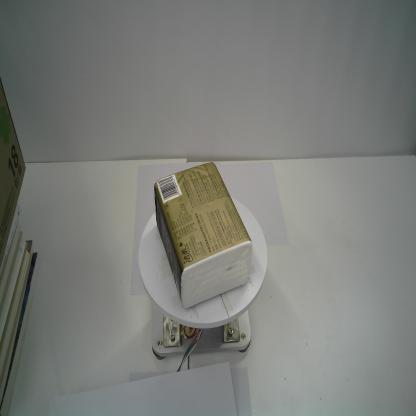Tissue: (153, 160, 251, 313)
